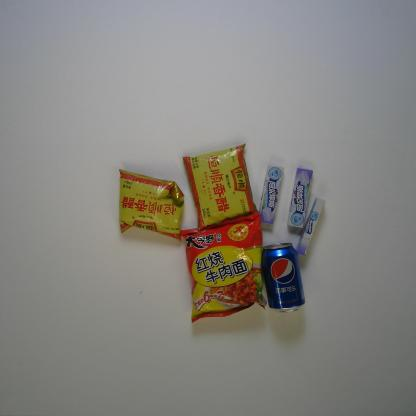Candy: (295, 196, 326, 257), (286, 166, 314, 229), (258, 164, 284, 226)
Drink: (261, 241, 306, 314)
Instant Noodles: (179, 211, 267, 324)
Seasoner: (182, 143, 259, 231), (118, 169, 185, 242)
